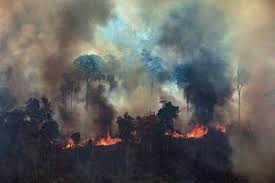fire: (170, 121, 228, 138), (65, 134, 121, 148)
smoke: (133, 11, 244, 114), (2, 1, 92, 100)
